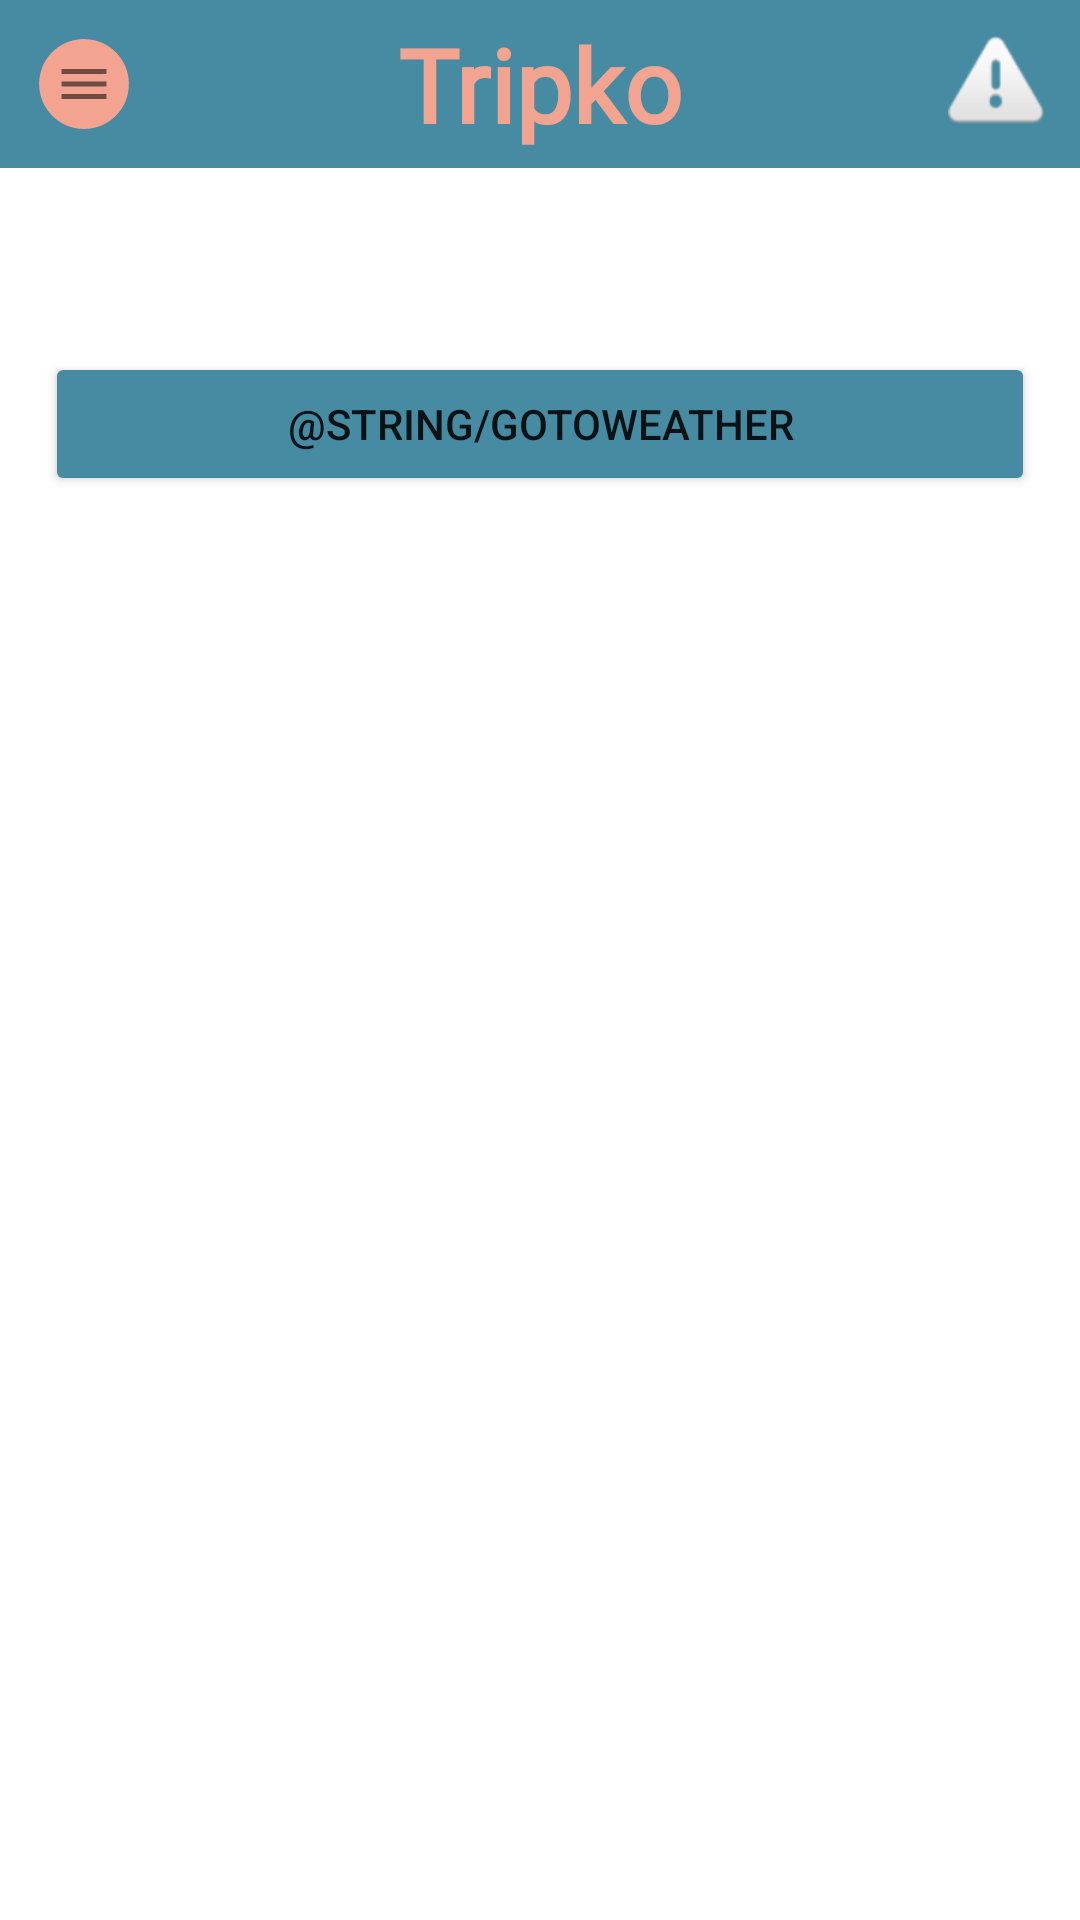

Where to tap for icons on this 1080×1920 app screen, as (x=x, y=y):
alert: (x=996, y=79)
